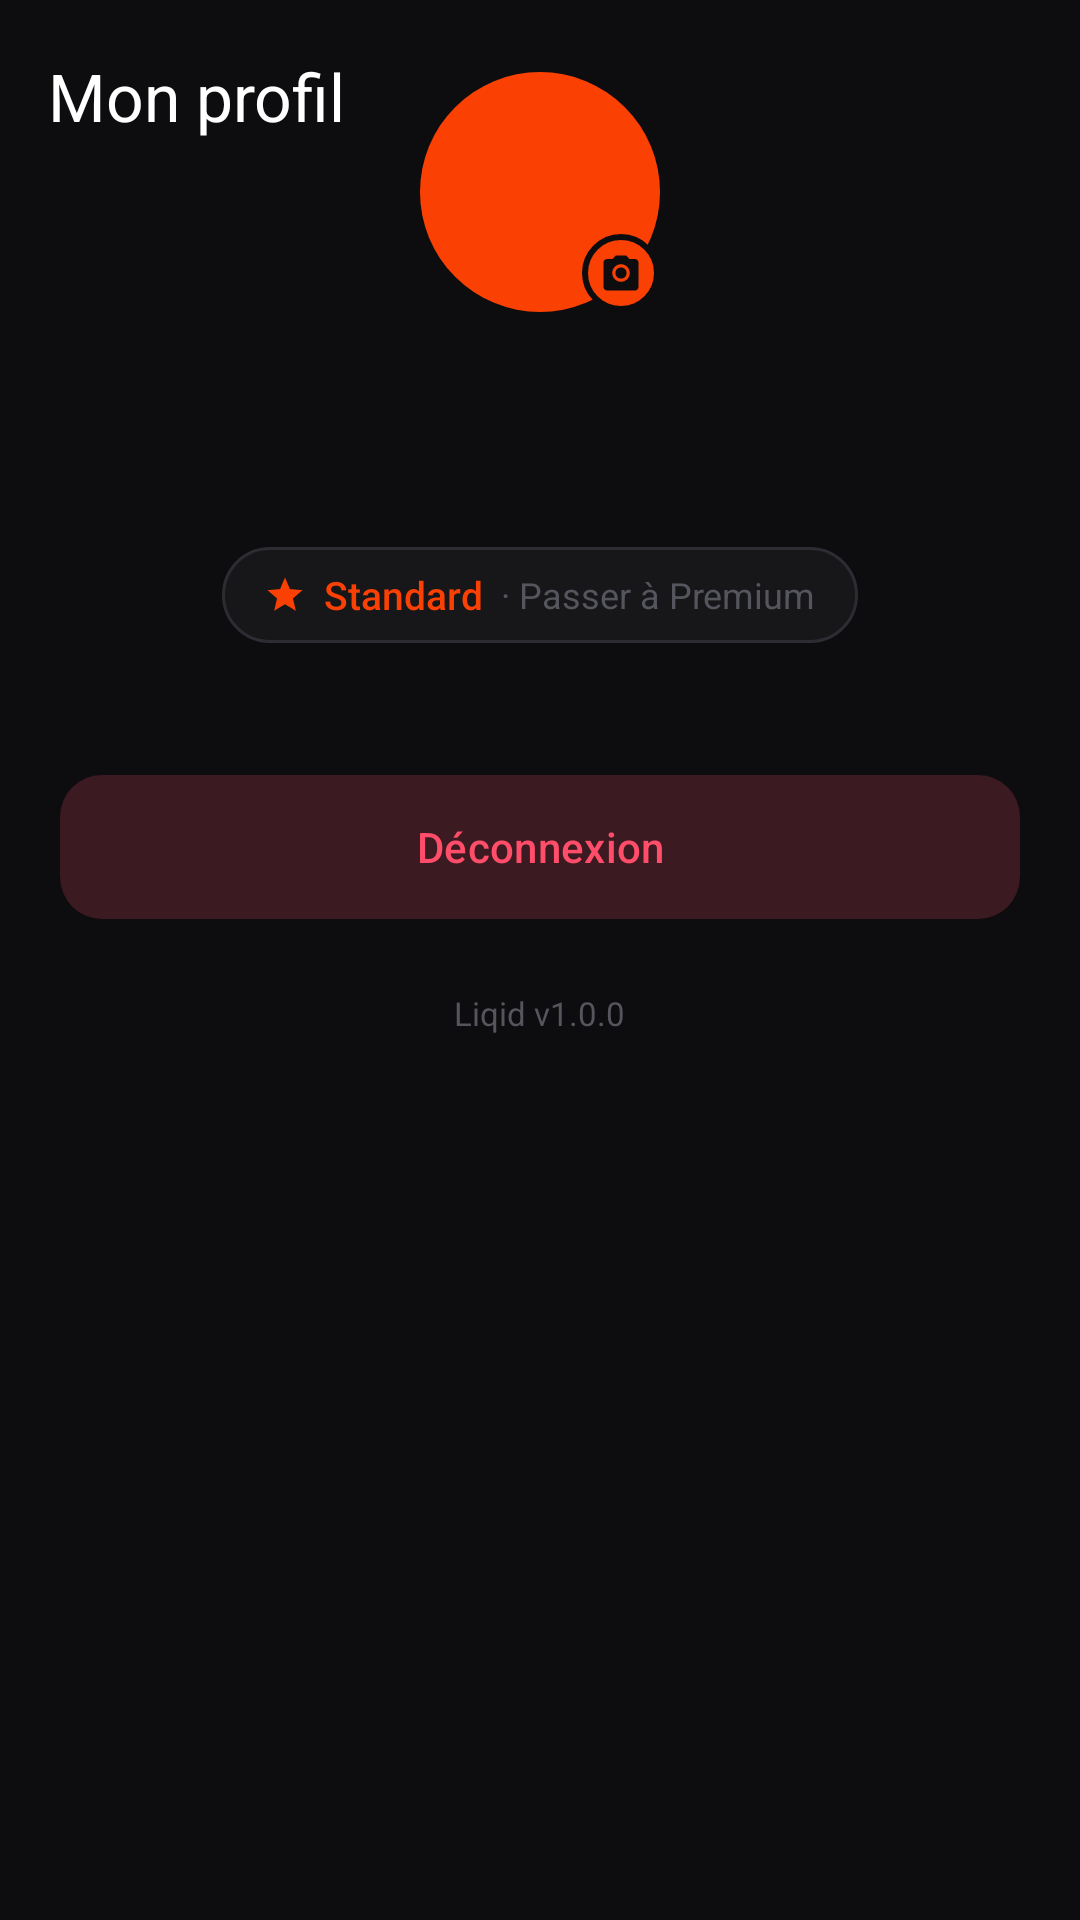

Icons on this 1080 x 1920 Android screen, each with the point to tap as (x=x, y=y):
camera: (x=621, y=273)
star: (x=285, y=594)
